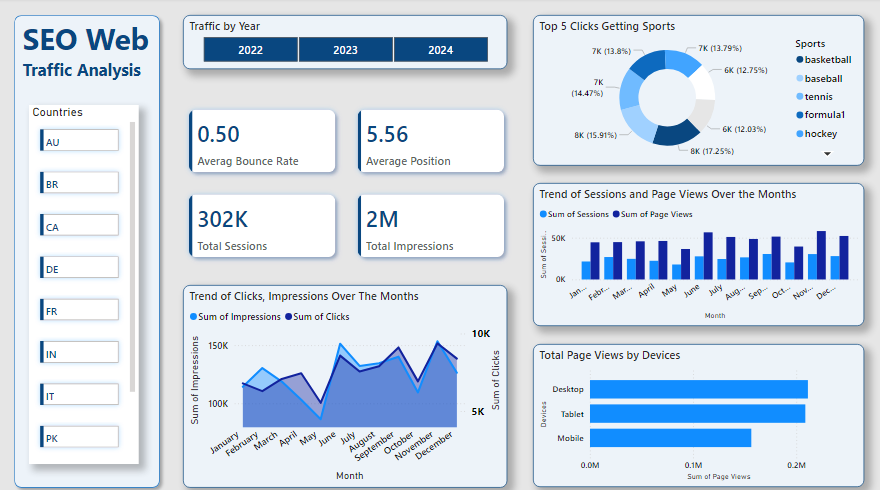

Layout of this report page (visuals, bound fields, positions):
{"tool":"powerbi","page":{"name":"Page 1","canvas":[1280,720],"ordinal":0},"visuals":[{"type":"cardVisual","fields":{"Data":["Avg(Sheet1.Bounce Rate)","Avg(Sheet1.Average Position)","Sum(Sheet1.Sessions)","Sum(Sheet1.Impressions)"]},"box":[260.6,144,489.6,247.7],"z":0},{"type":"textbox","box":[27.4,15.8,205.9,148.3],"z":1000},{"type":"areaChart","title":"Trend of Clicks, Impressions Over The Months","fields":{"Category":["Sheet1.Date.Variation.Date Hierarchy.Month"],"Y":["Sum(Sheet1.Impressions)"],"Y2":["Sum(Sheet1.Clicks)"]},"box":[269.3,413.3,466.6,292.3],"z":2000},{"type":"shape","box":[17.3,15.8,227.5,698.4],"z":3000},{"type":"textbox","box":[33.1,24.5,223.2,128.2],"z":4000},{"type":"lineClusteredColumnComboChart","title":"Trend of Sessions and Page Views Over the Months","fields":{"Category":["Sheet1.Date.Variation.Date Hierarchy.Month"],"Y":["Sum(Sheet1.Sessions)","Sum(Sheet1.Page Views)"]},"box":[773.3,266.4,476.6,205.9],"z":5000},{"type":"advancedSlicerVisual","title":"Countries","fields":{"Values":["Sheet1.Country"]},"box":[47.5,154.1,158.4,517],"z":6000},{"type":"slicer","title":"Traffic by Year","fields":{"Values":["Sheet1.Date.Variation.Date Hierarchy.Year"]},"box":[269.3,24.5,466.6,77.8],"z":7000},{"type":"donutChart","title":"Top 5 Clicks Getting Countries","fields":{"Y":["Sum(Sheet1.Clicks)"],"Category":["Sheet1.Sports"]},"box":[773.3,24.5,476.6,217.4],"z":8000},{"type":"barChart","title":"Total Page Views by Devices","fields":{"Category":["Sheet1.Devices"],"Y":["Sum(Sheet1.Page Views)"]},"box":[773.3,498.2,476.6,205.9],"z":9000}]}

Visuals, with their boxes in screenshot pixels (x1, y1, x2, y2), scaled from the page's 1280x720 canvas onto the 880x490 screenshot:
cardVisual - Avg(Sheet1.Bounce Rate) x Avg(Sheet1.Average Position): (179, 98, 516, 267)
textbox: (19, 11, 160, 112)
"Trend of Clicks, Impressions Over The Months" areaChart: (185, 281, 506, 480)
shape: (12, 11, 168, 486)
textbox: (23, 17, 176, 104)
"Trend of Sessions and Page Views Over the Months" lineClusteredColumnComboChart: (532, 181, 859, 321)
"Countries" advancedSlicerVisual: (33, 105, 142, 457)
"Traffic by Year" slicer: (185, 17, 506, 70)
"Top 5 Clicks Getting Countries" donutChart: (532, 17, 859, 165)
"Total Page Views by Devices" barChart: (532, 339, 859, 479)
